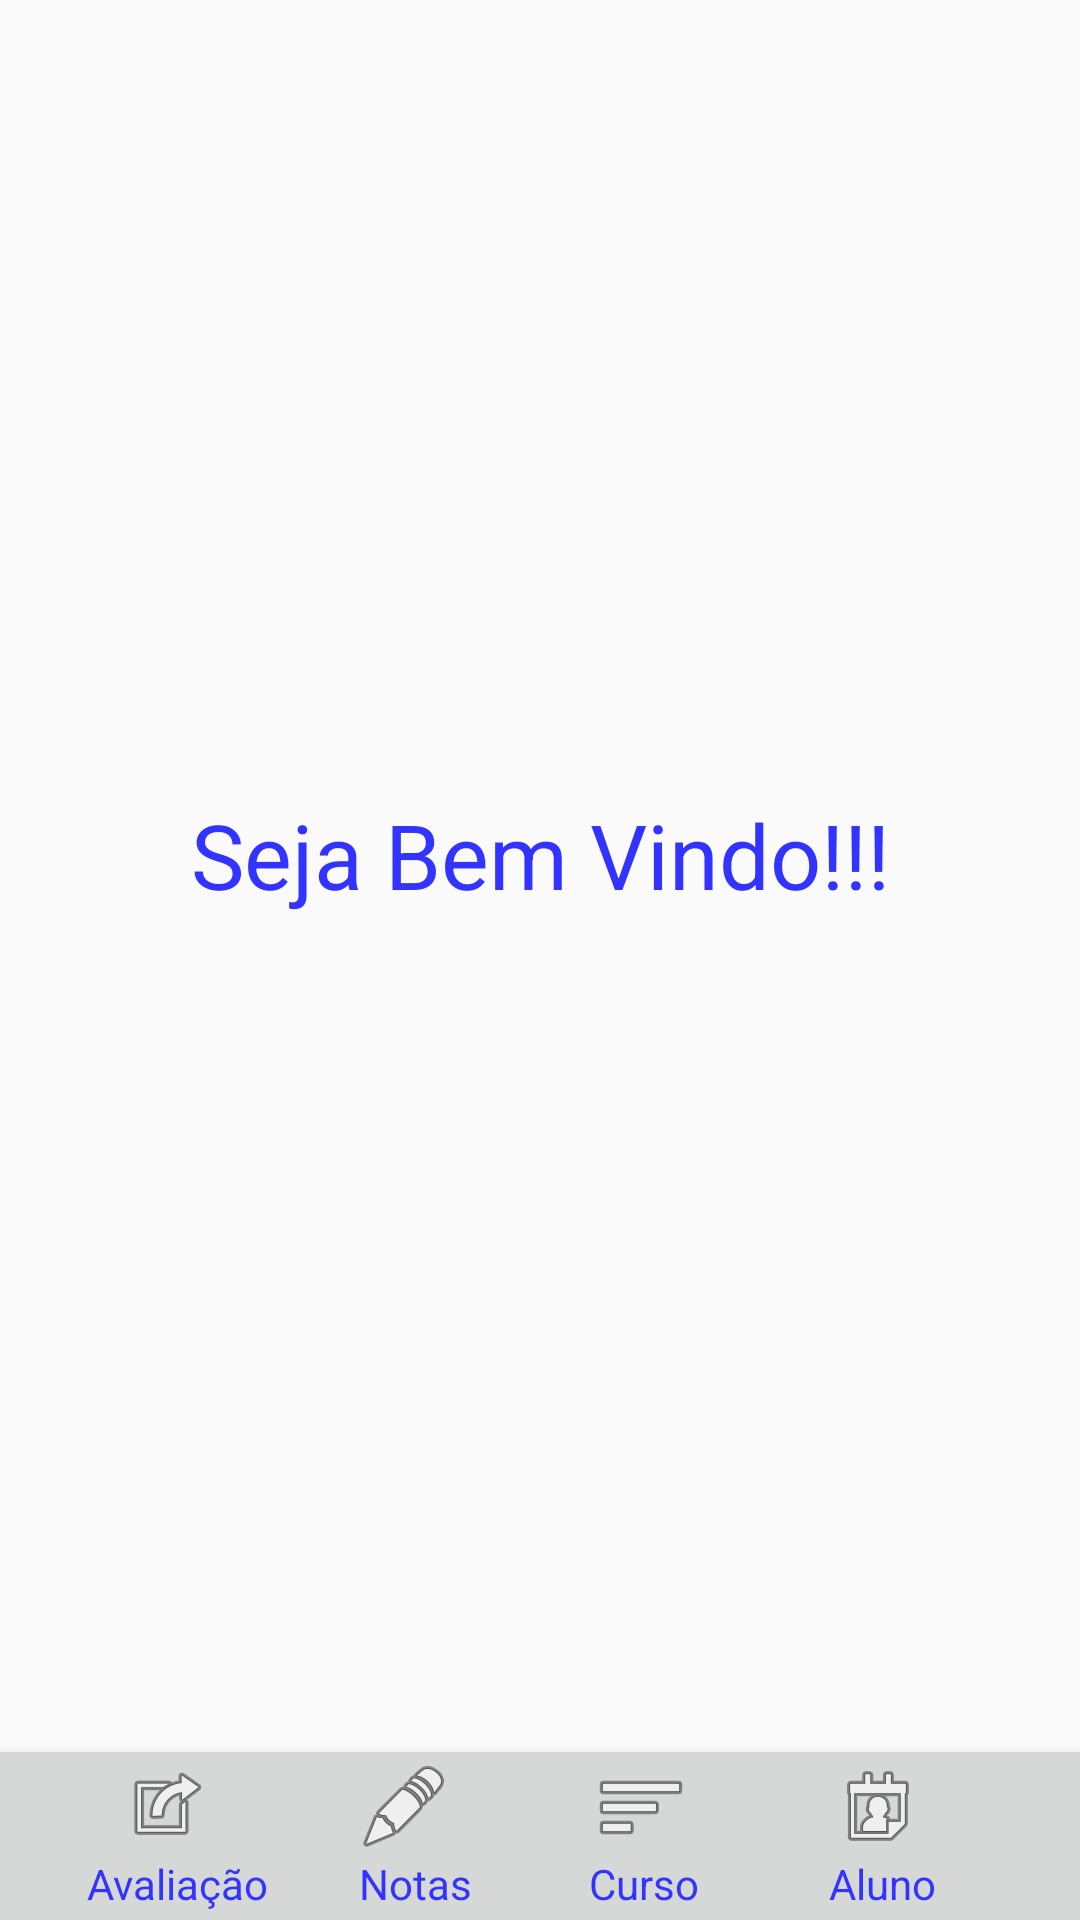

Icon click points for this 1080*1920 phone screenshot, format (x=x, y=y):
calendar: (x=878, y=1806)
edit: (x=403, y=1806)
sort by size: (x=641, y=1807)
